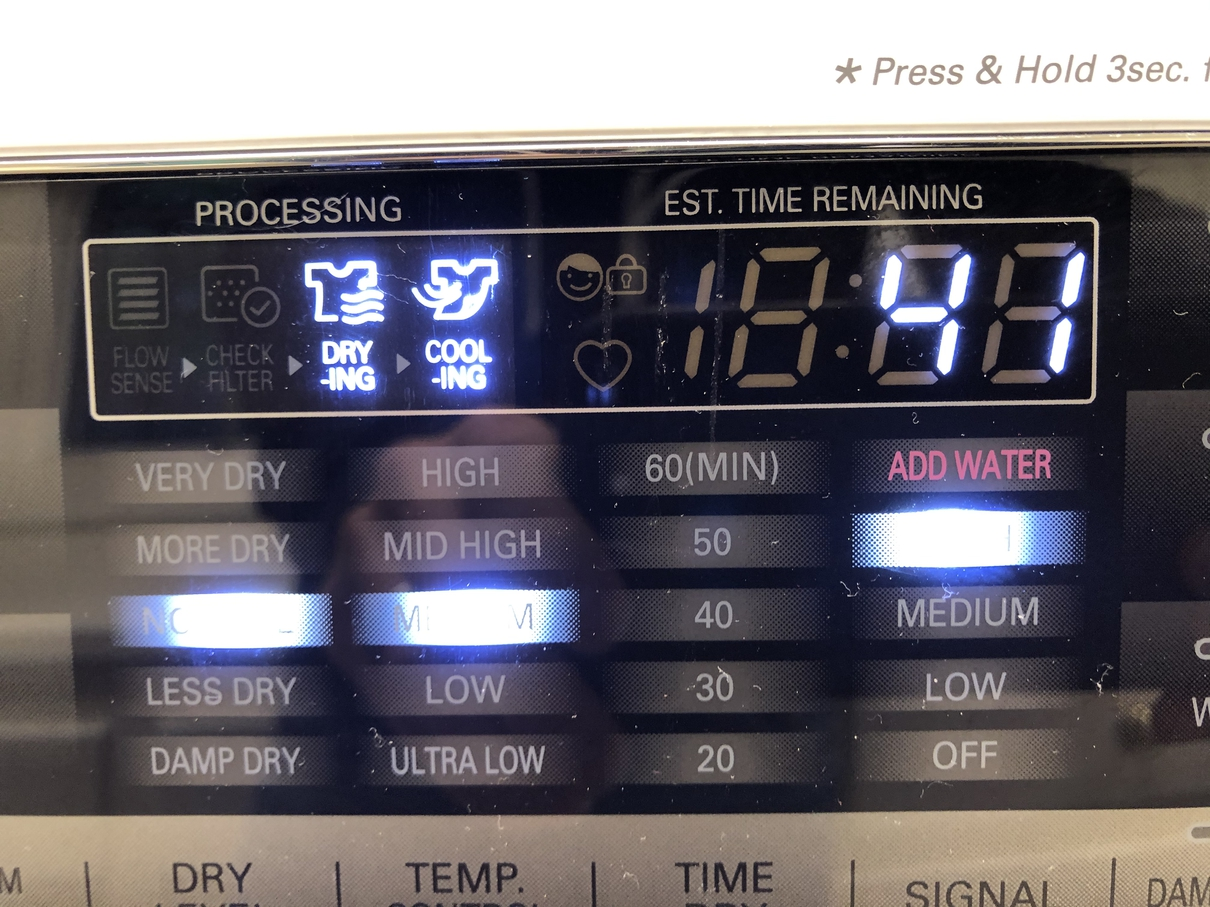status: (48, 164, 1124, 458)
